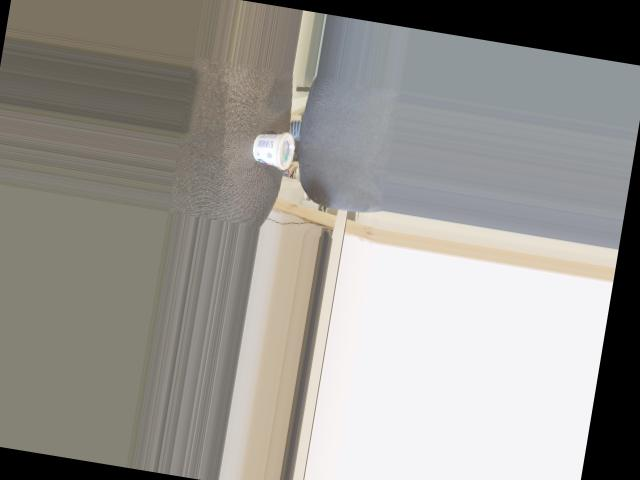cotage: (246, 128, 298, 170)
